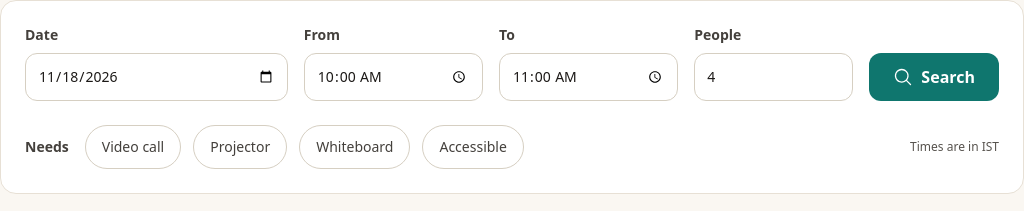
Test: SearchForm › marks chips as pressed and lets them be toggled off
Click the button "Projector". click: (240,147)
box: [193,125,287,169]
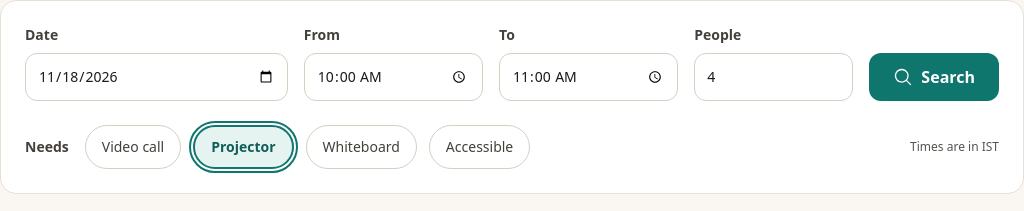
Now the button "Projector" is pressed
Click the button "Projector". click: (243,147)
box: [193,125,294,169]
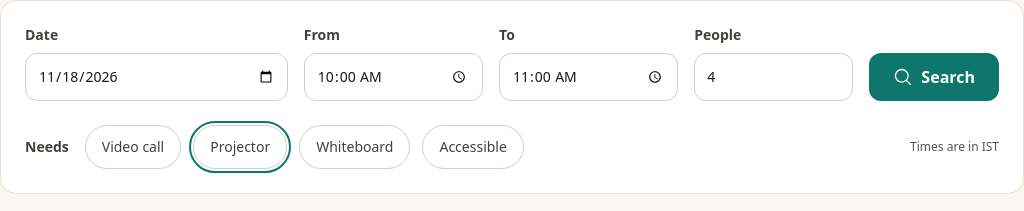
Now the button "Projector" is not pressed, box [193,125,287,169]
